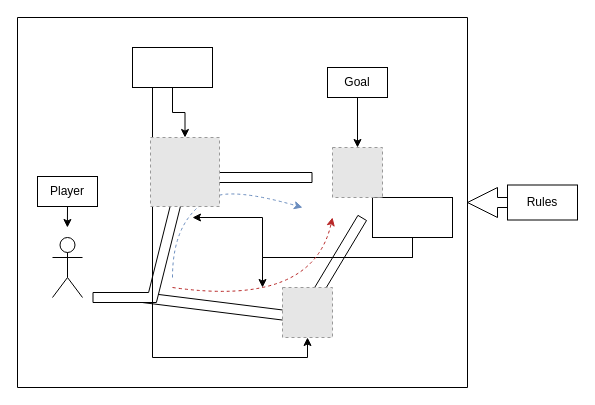
Some shapes in this 595 by 405 pixel diagram are drawn without their labels. Grey dashed boxes stand in for pictures. Here are the shapes that lost their labels. From the top down, the centre of each, then its label:
At point 172,67: "Opposition".
At point 412,217: "Decisions".
